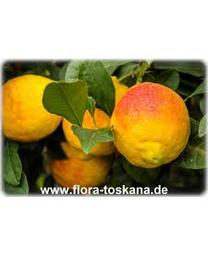lemon: (112, 82, 192, 169), (1, 75, 63, 140)
